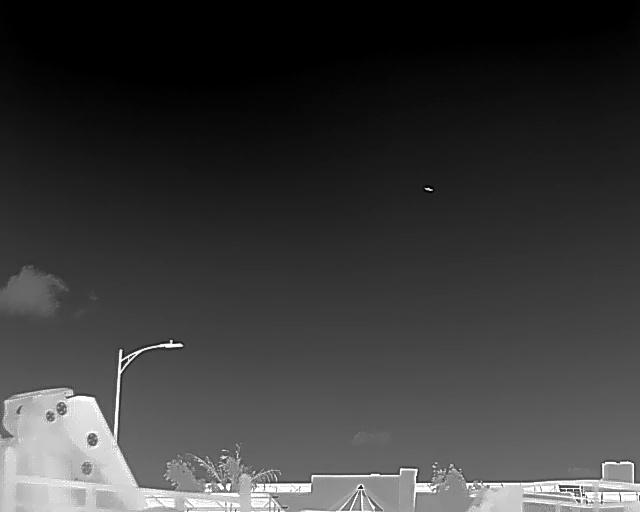fpv-drone: (424, 186, 433, 192)
